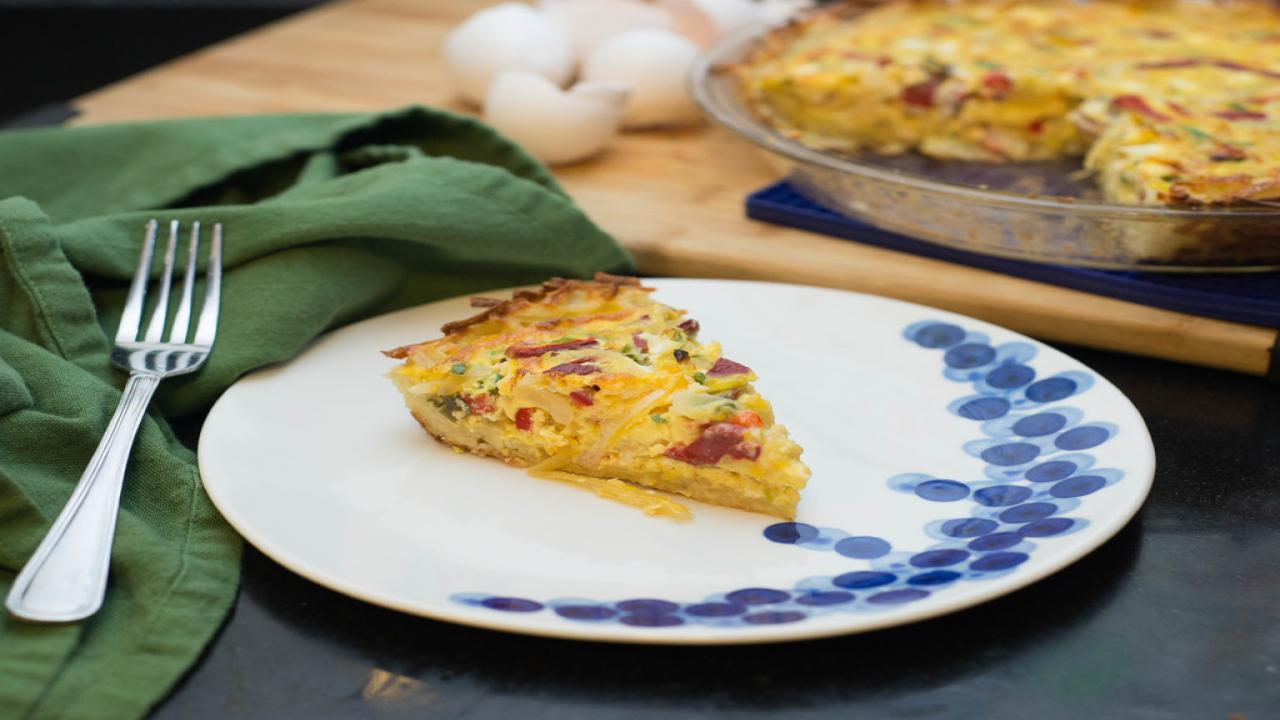fork: (0, 215, 228, 621)
